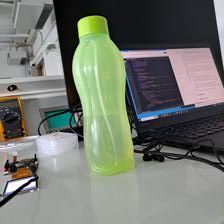bottle: (70, 12, 135, 177)
